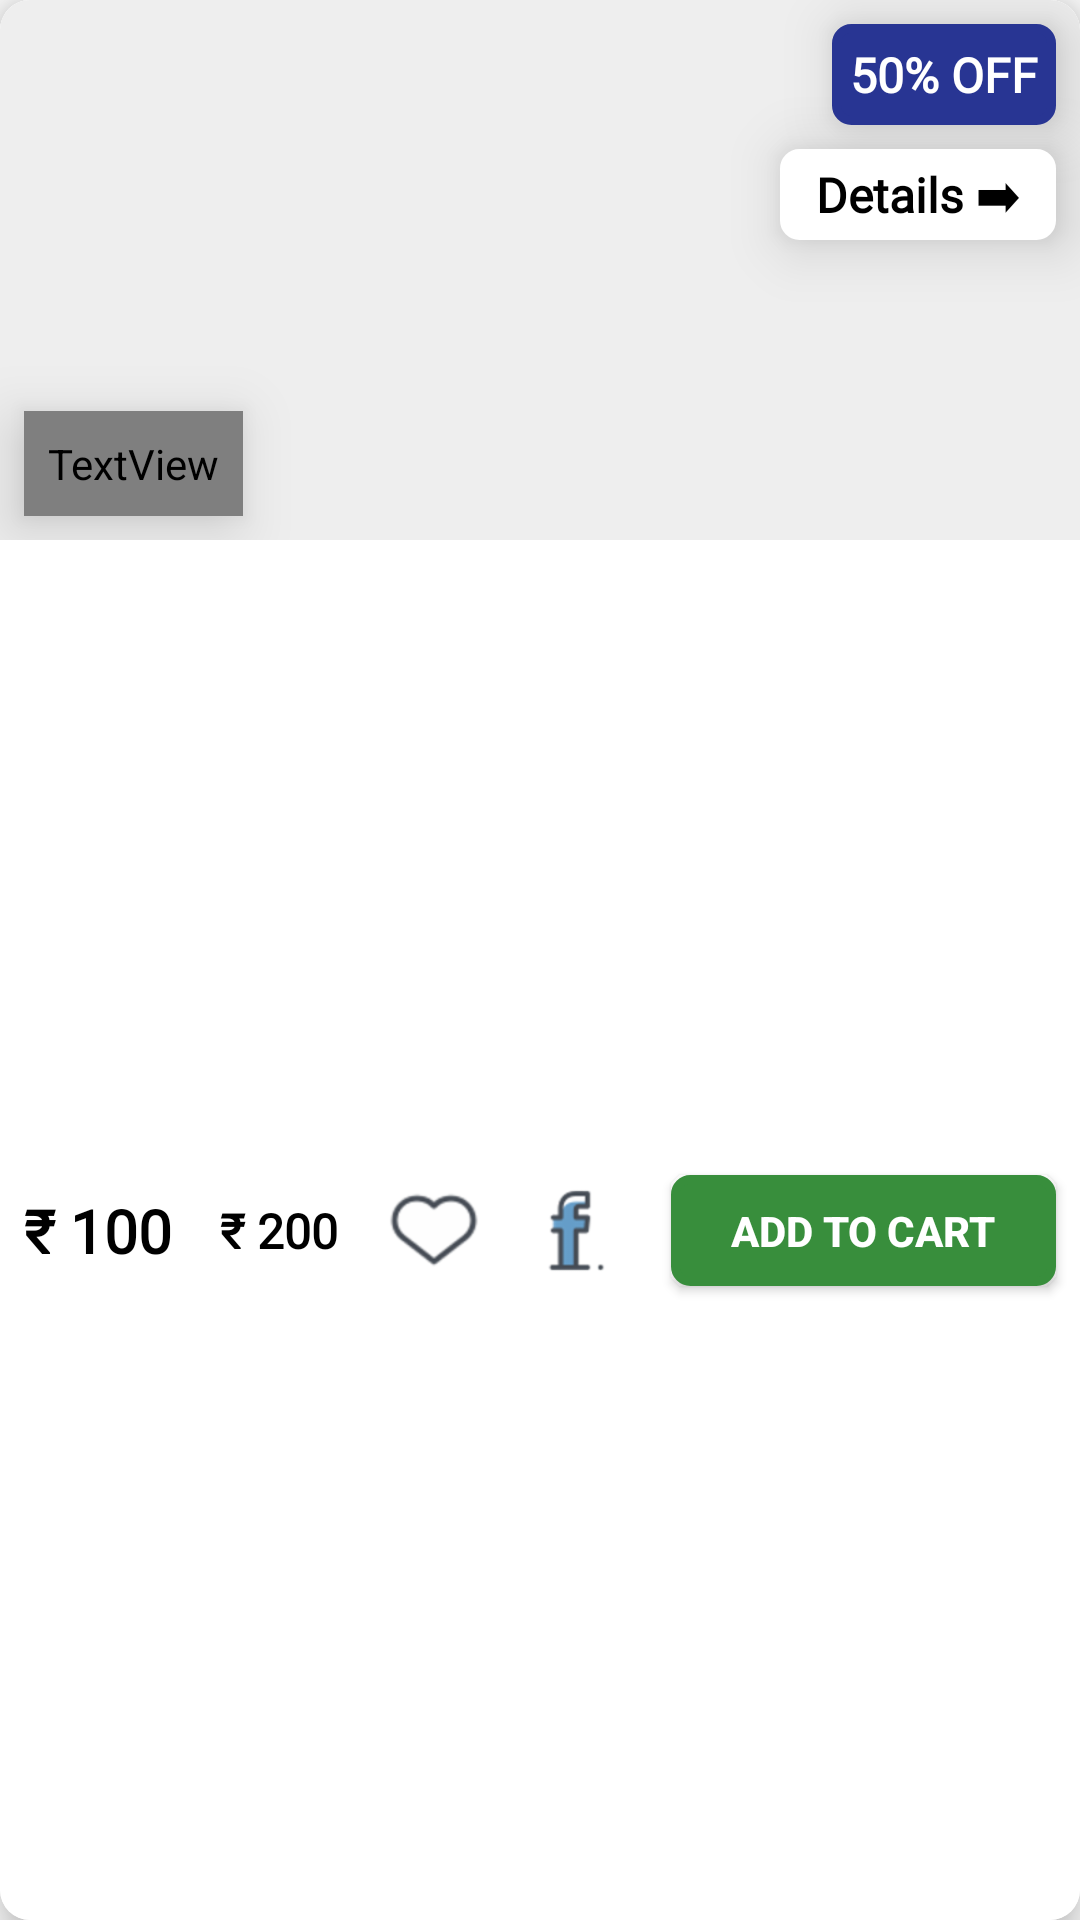

Icon click points for this 1080*1920 phone screenshot, format (x,y):
favourite: (434,1229)
